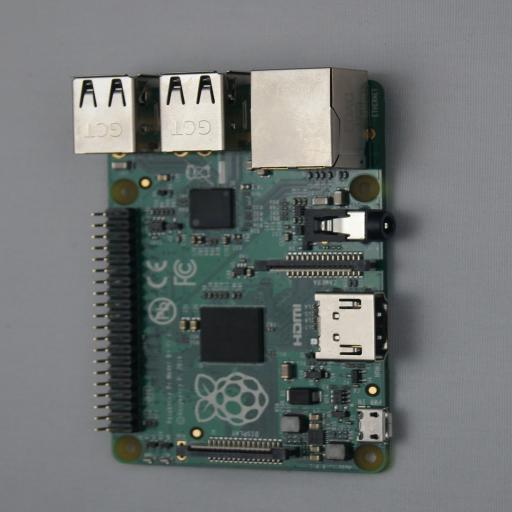Raspberry Pi 1 B-: (74, 67, 420, 474)
